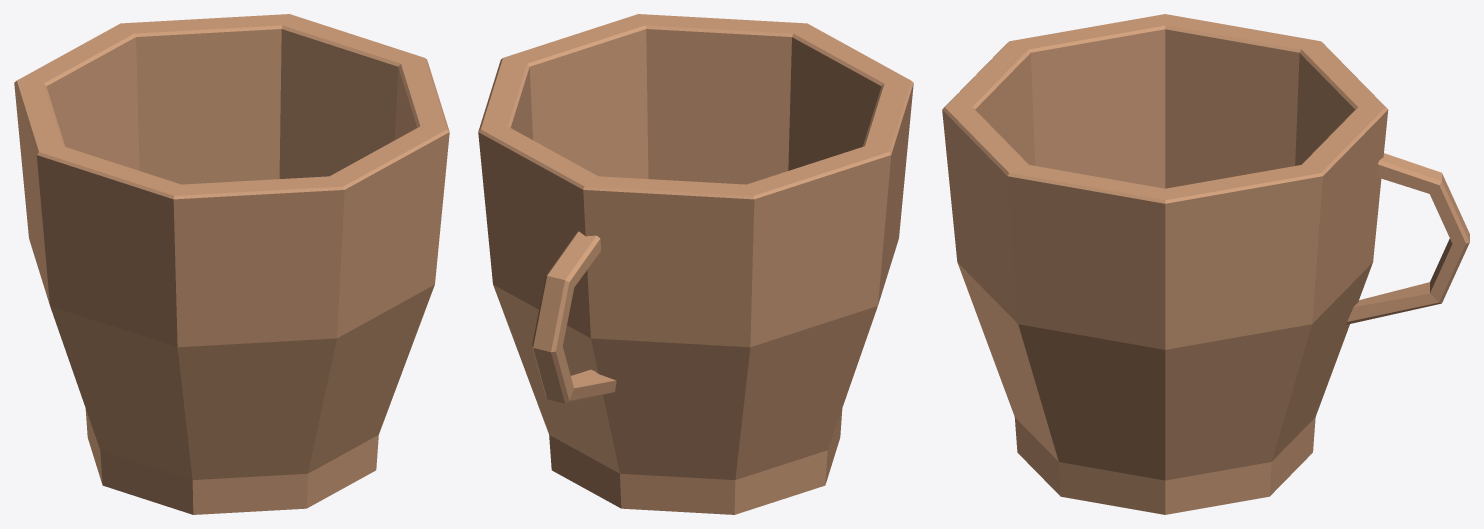
Rendered from CoffeeCup1.glb.
3 views of the same model, side by side, from view 1: azimuth 30°, elevation 25°; view 2: azimuth 150°, elevation 25°; view 3: azimuth 270°, elevation 25° (orthographic).
Parts seen in each view (by area): view 1: CoffeeCup1; view 2: CoffeeCup1; view 3: CoffeeCup1.
Boxes of the visible parts, x1,y1,x2,y2 form: CoffeeCup1: (14, 14, 449, 514); CoffeeCup1: (478, 14, 913, 514); CoffeeCup1: (942, 14, 1469, 514).
Size of the model in its own units: 0.2565 by 0.2191 by 0.3034.
